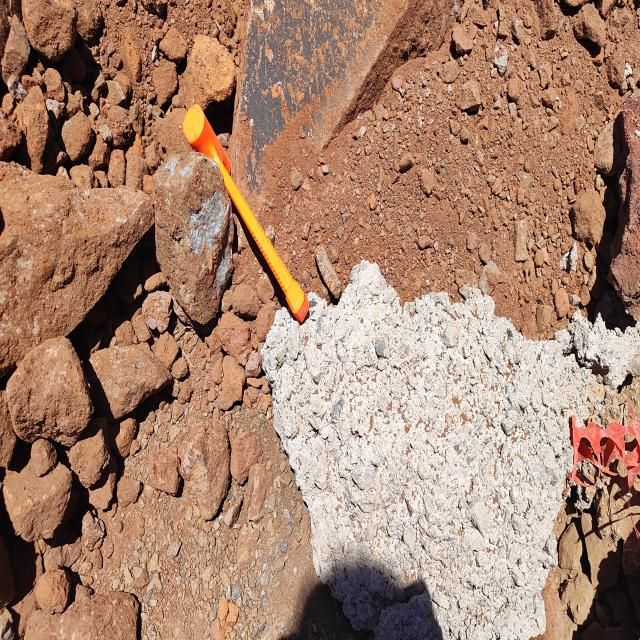Orange_hammer: (182, 102, 310, 326)
